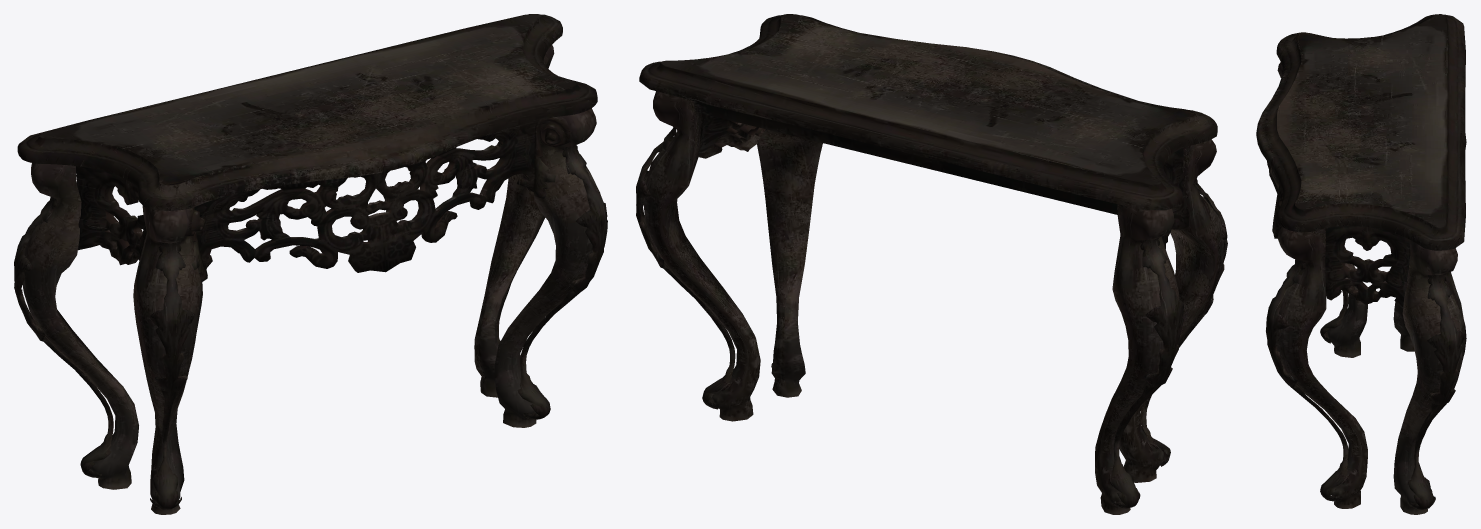
File: ClassicConsole_01.glb
The picture shows the model from 3 angles, left to right: view 1: azimuth 30°, elevation 25°; view 2: azimuth 150°, elevation 25°; view 3: azimuth 270°, elevation 25°; orthographic projection. The views are drawn at different scales.
Visible parts, largest first — view 1: ClassicConsole_01; view 2: ClassicConsole_01; view 3: ClassicConsole_01.
Part boxes in pixels (x1=…): ClassicConsole_01: x1=14, y1=14, x2=607, y2=514; ClassicConsole_01: x1=636, y1=14, x2=1227, y2=514; ClassicConsole_01: x1=1256, y1=14, x2=1466, y2=514.
Bounding box in the file's own units: 1.54 × 0.9491 × 0.5893.
1 material, 1 textured.
